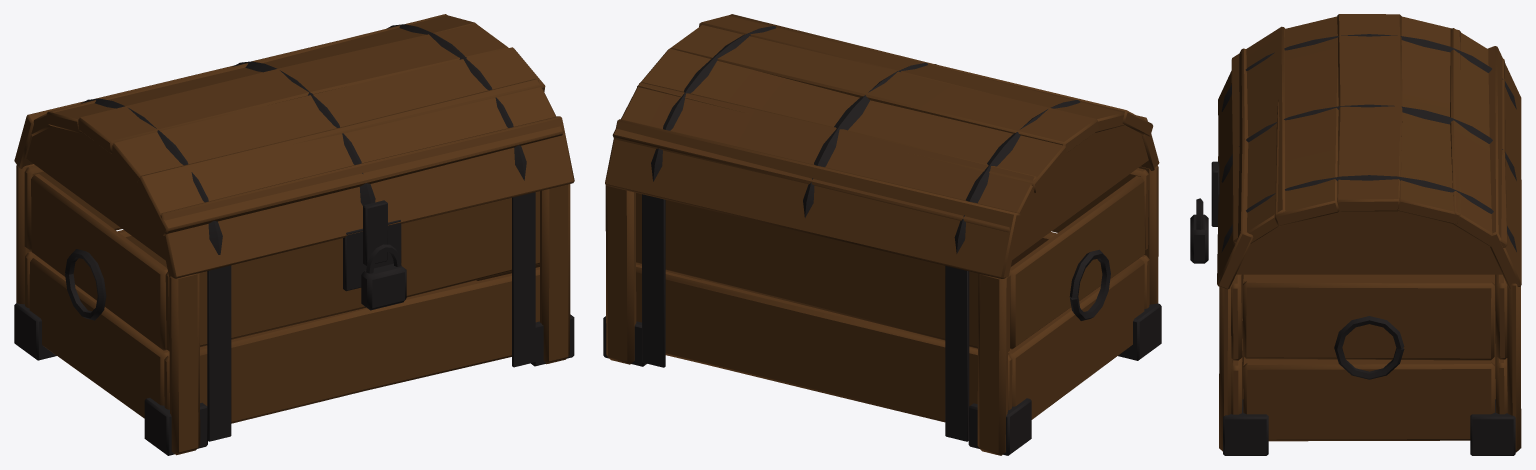
Rendered from schatzkiste_klein.glb.
The picture shows the model from 3 angles, left to right: view 1: azimuth 30°, elevation 25°; view 2: azimuth 150°, elevation 25°; view 3: azimuth 270°, elevation 25°; orthographic projection. The views are drawn at different scales.
Visible parts, largest first — view 1: schatzkiste_klein; view 2: schatzkiste_klein; view 3: schatzkiste_klein.
Boxes of the visible parts, x1,y1,x2,y2 form: schatzkiste_klein: [14, 14, 574, 455]; schatzkiste_klein: [603, 14, 1161, 455]; schatzkiste_klein: [1190, 14, 1521, 455].
Bounding box in the file's own units: 0.7533 × 0.4613 × 0.5366.
